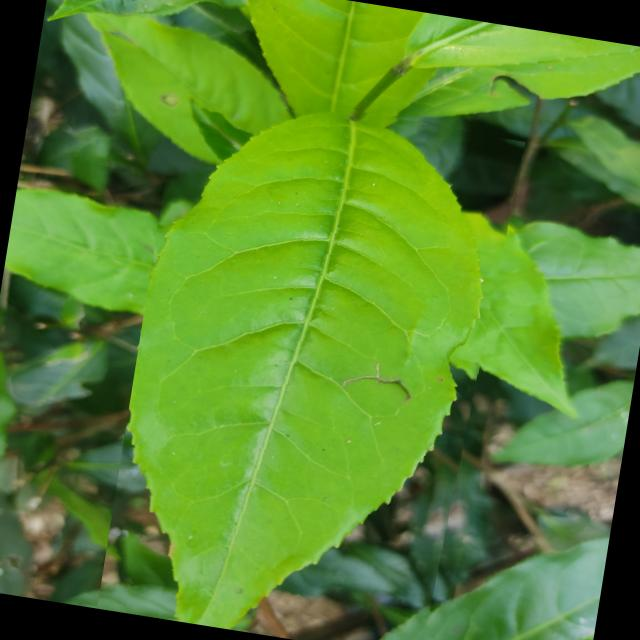Category D(7+ days, Not for Tea): (97, 77, 527, 640)
